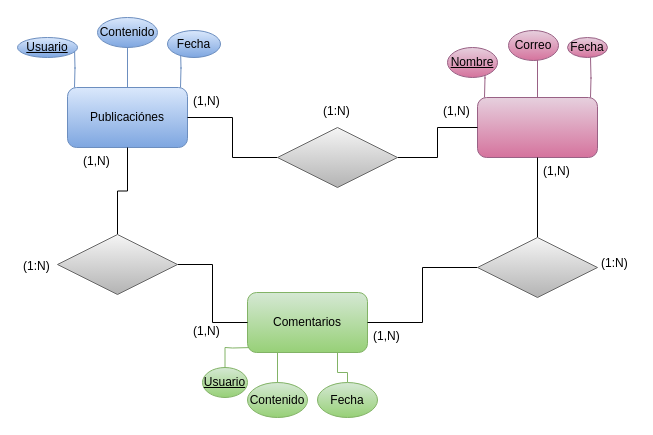
Some shapes in this 653 by 435 pixel diagram are drawn without their labels. The box of each missing label's shape, as (x1, y1, x2, y2) in pixels:
Hacen: (276, 126, 398, 188)
Tiene: (56, 234, 178, 294)
Tienen: (476, 236, 598, 298)
Usuarios: (476, 96, 598, 158)
